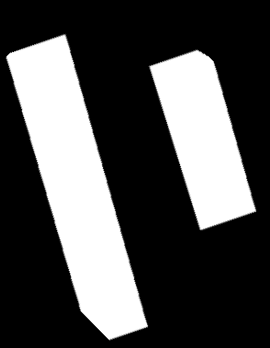parkingspot: (6, 34, 148, 340), (149, 50, 256, 230)
